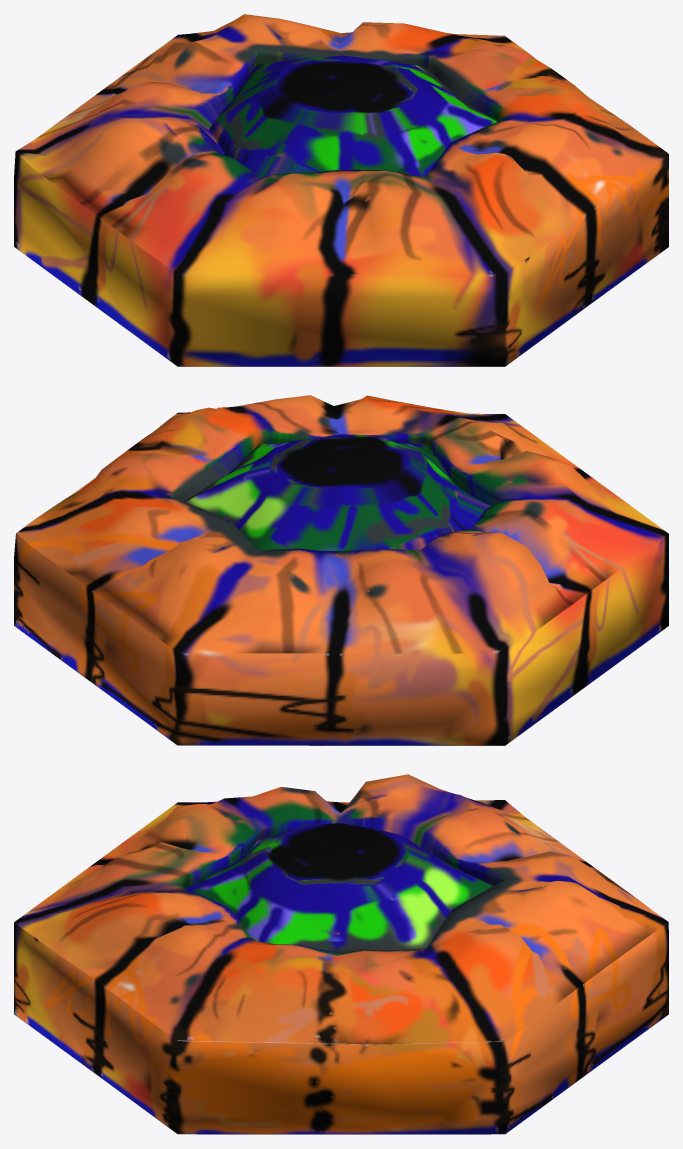
The model's file is hex.glb.
3 views of the same model, one above another, from view 1: azimuth 30°, elevation 25°; view 2: azimuth 150°, elevation 25°; view 3: azimuth 270°, elevation 25° (orthographic).
Parts seen in each view (by area): view 1: bottom; view 2: bottom; view 3: bottom.
Part boxes in pixels (bbox=[...]): bottom: bbox=[14, 14, 668, 366]; bottom: bbox=[14, 395, 668, 745]; bottom: bbox=[14, 774, 668, 1134].
Bounding box in the file's own units: 1.73 × 0.5605 × 2.
Materials: 1 (1 with a texture image).
